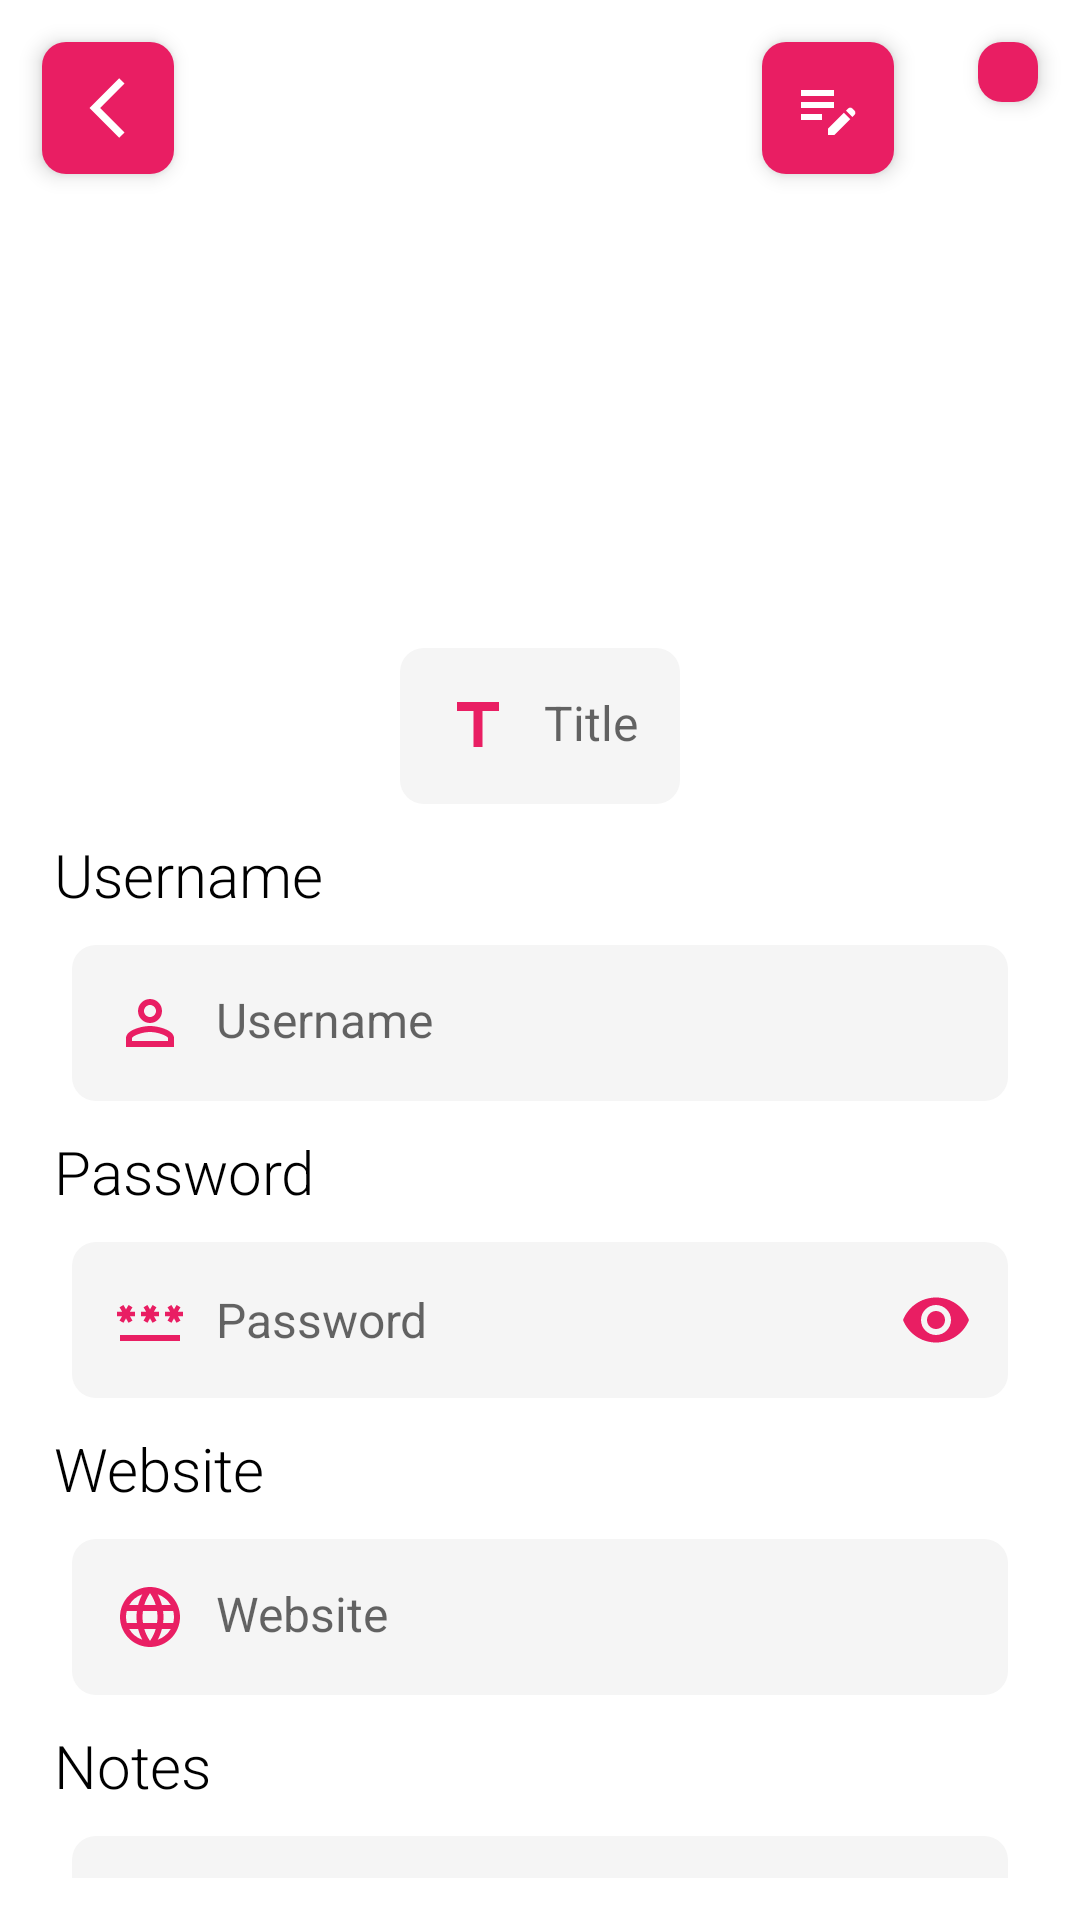

Where icons sit on this 1080 × 1920 app screen, as box=[x1, y1, x2, y2]:
back buton: box=[42, 42, 174, 174]
edit note: box=[762, 42, 894, 174]
